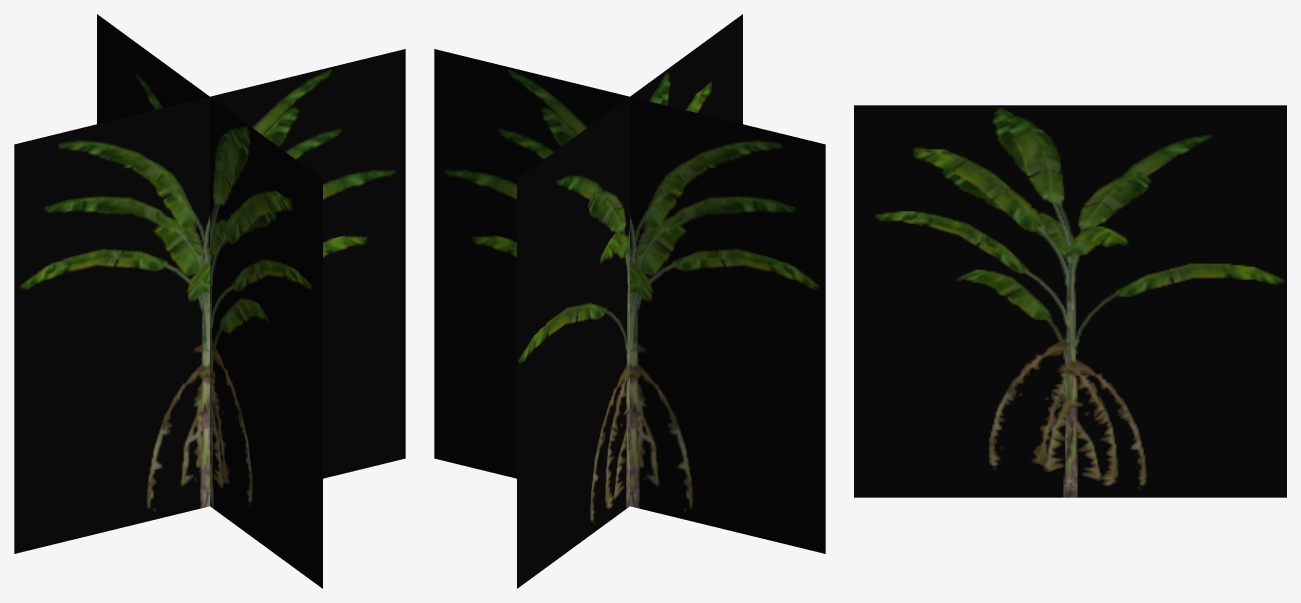
File: pac_2s_LOD2.fbx
3 views of the same model, side by side, from view 1: azimuth 30°, elevation 25°; view 2: azimuth 150°, elevation 25°; view 3: azimuth 270°, elevation 25° (orthographic). The views are drawn at different scales.
Visible parts, largest first — view 1: pac_LOD2; view 2: pac_LOD2; view 3: pac_LOD2.
Boxes of the visible parts, x1,y1,x2,y2 form: pac_LOD2: (14, 14, 405, 588); pac_LOD2: (434, 14, 825, 588); pac_LOD2: (854, 105, 1286, 497).
Size of the model in its own units: 1000 by 1000 by 1000.
